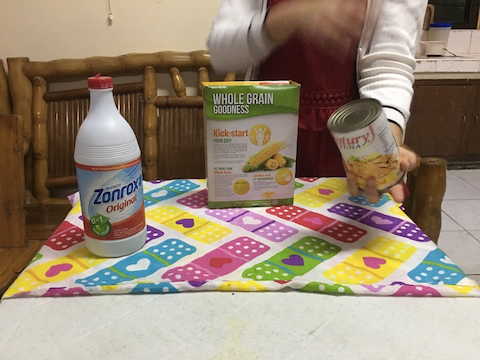bottle: (74, 73, 151, 259)
box: (199, 77, 306, 210)
can: (324, 94, 407, 197)
grab: (340, 142, 418, 215)
